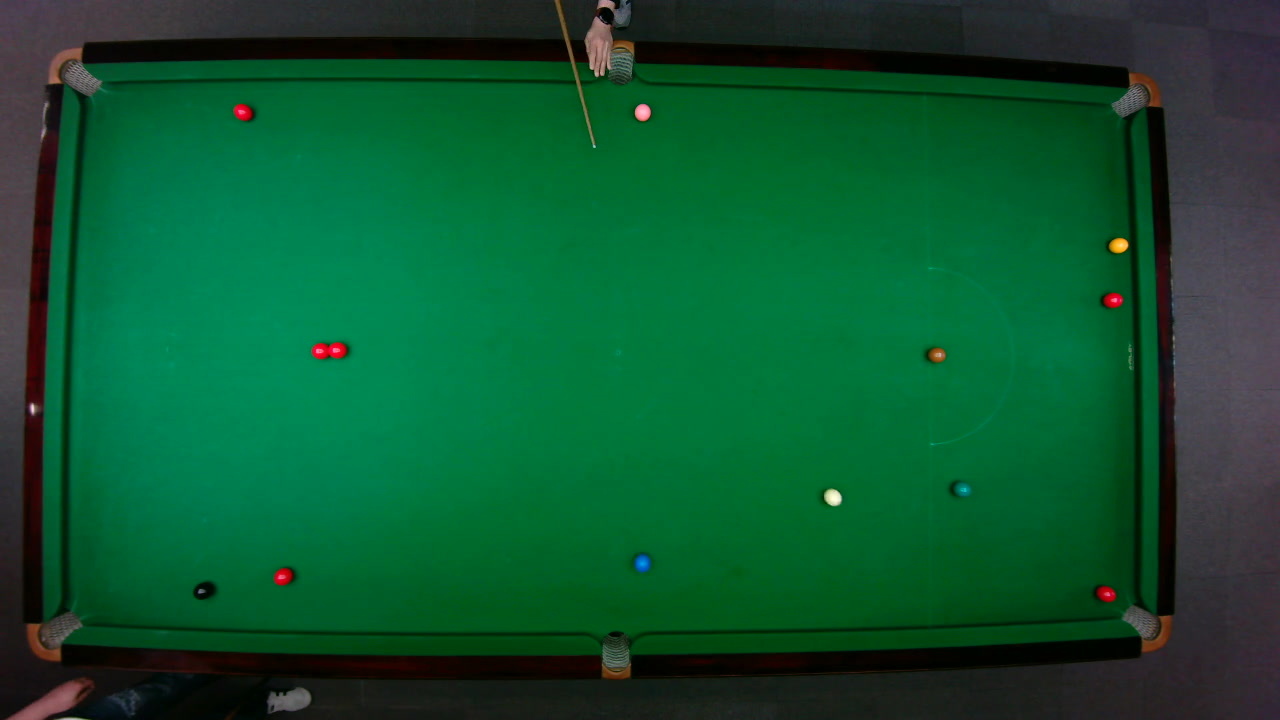bag: (25, 609, 83, 661), (45, 46, 102, 96), (1119, 603, 1172, 652), (1109, 71, 1161, 117), (601, 629, 630, 680), (606, 38, 633, 85)
black: (192, 581, 213, 600)
blue: (632, 552, 652, 572)
brown: (926, 346, 946, 362)
cue: (554, 0, 596, 148)
green: (951, 480, 972, 497)
pink: (632, 102, 651, 121)
red: (324, 340, 347, 359), (272, 566, 293, 585), (232, 102, 253, 121), (1094, 584, 1116, 602), (310, 341, 330, 360), (1101, 291, 1123, 308)
white: (822, 487, 842, 506)
yellow: (1107, 236, 1129, 253)
zone: (926, 266, 1014, 445)
